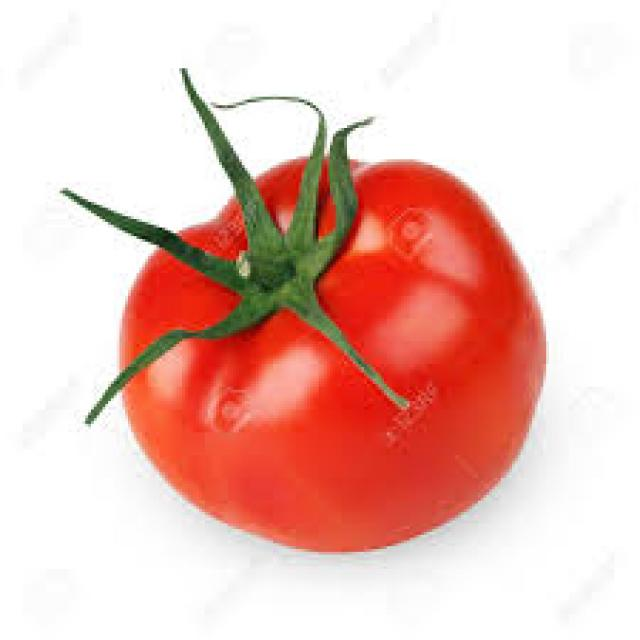organic waste: (54, 63, 543, 549)
